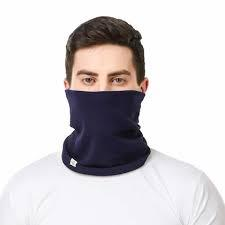scarf-kerchief: (61, 85, 157, 181)
